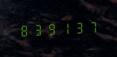eight: (17, 22, 29, 38)
nine: (44, 20, 56, 37)
one: (57, 20, 69, 36)
seven: (83, 18, 95, 35)
three: (30, 21, 42, 37), (70, 19, 82, 35)
